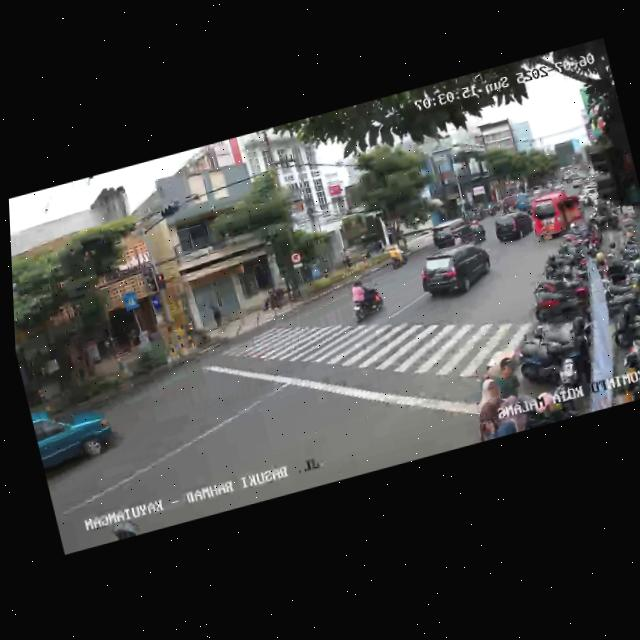car: (30, 391, 122, 486), (414, 238, 498, 308), (526, 186, 587, 247), (431, 214, 481, 253), (491, 207, 536, 248)
motorcycle: (344, 273, 388, 325), (467, 218, 487, 246)
person: (467, 376, 511, 442), (488, 354, 523, 404)
